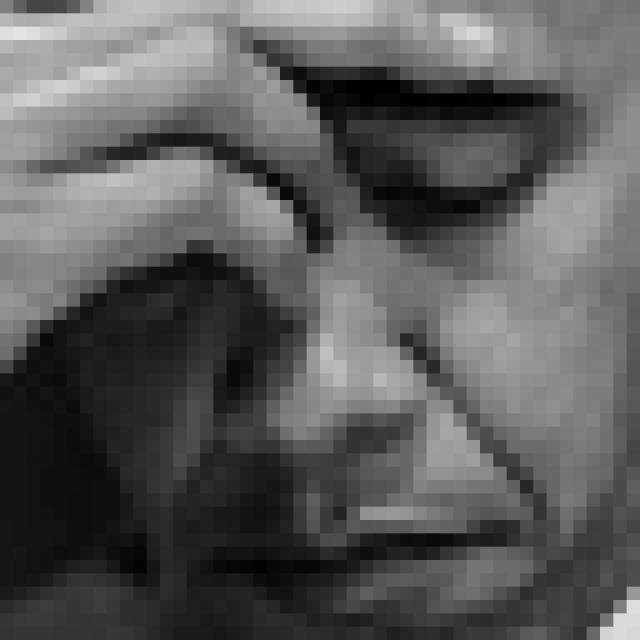sad: (113, 73, 563, 640)
